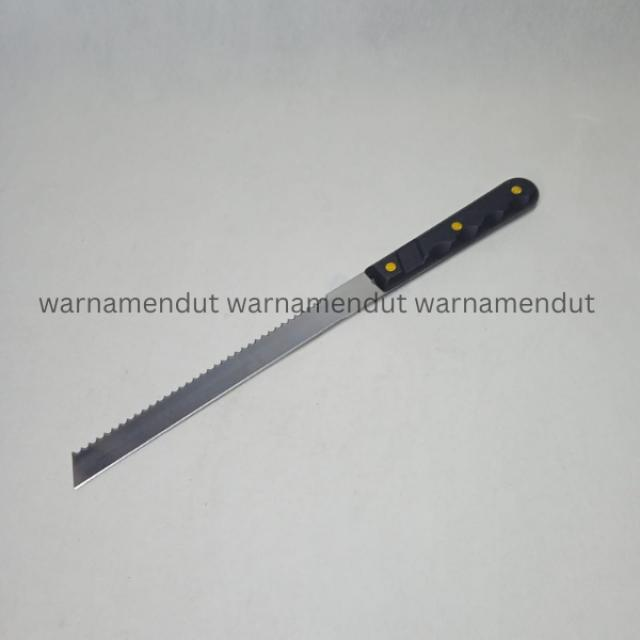Knife: (73, 177, 539, 489)
